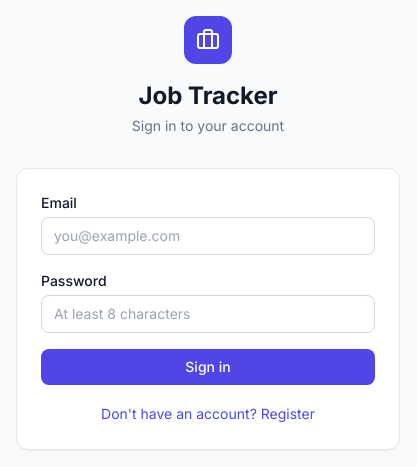
Login page › disables the submit button while the request is in flight
Expected: the text "Sign in to your account" is shown, [132,117,284,134]
Type "niall@example.com" into the field labelled "Email".
click(208, 236); type("niall@example.com")  # box [41,217,375,255]
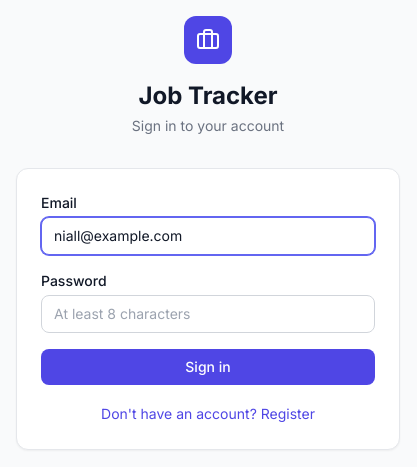
Type "password123" into the password field labelled "Password".
click(208, 314); type("password123")  # box [41,295,375,333]
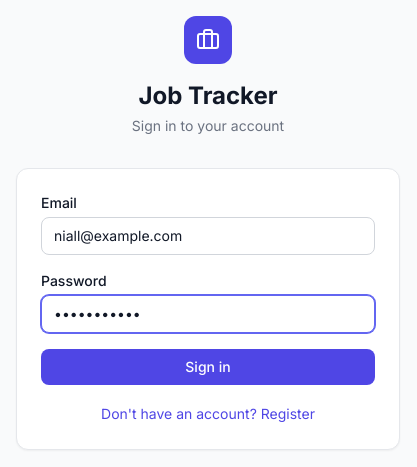
Click the button "Sign in".
click(208, 367)  # box [41,349,375,385]
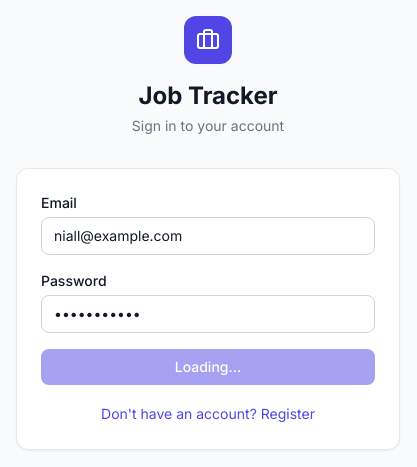
Now the button "Loading..." is disabled, box [41,349,375,385]
